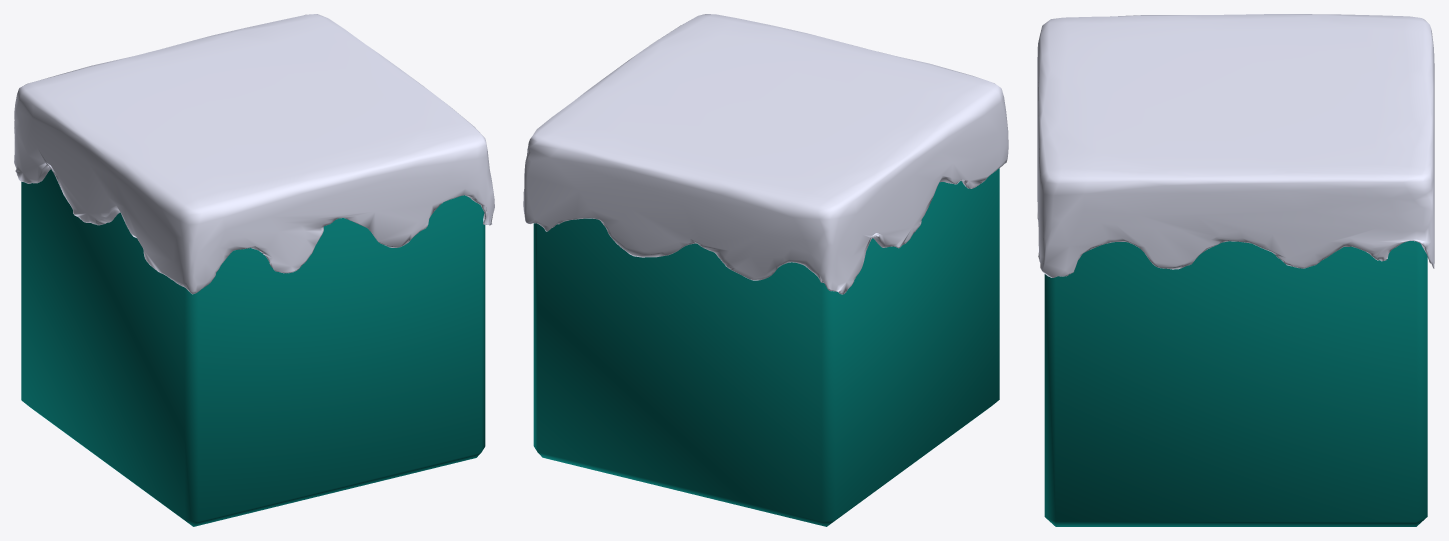
The model's file is Platform.fbx.
3 views of the same model, side by side, from view 1: azimuth 30°, elevation 25°; view 2: azimuth 150°, elevation 25°; view 3: azimuth 270°, elevation 25° (orthographic). The views are drawn at different scales.
Parts seen in each view (by area): view 1: Cube, Cube.001; view 2: Cube, Cube.001; view 3: Cube, Cube.001.
Part boxes in pixels (x1,y1,x2,y2): Cube: (21, 169, 485, 526); Cube.001: (14, 14, 494, 294); Cube: (533, 168, 999, 526); Cube.001: (523, 14, 1008, 294); Cube: (1044, 241, 1427, 526); Cube.001: (1037, 14, 1434, 277).
Size of the model in its own units: 209 by 206 by 208.
